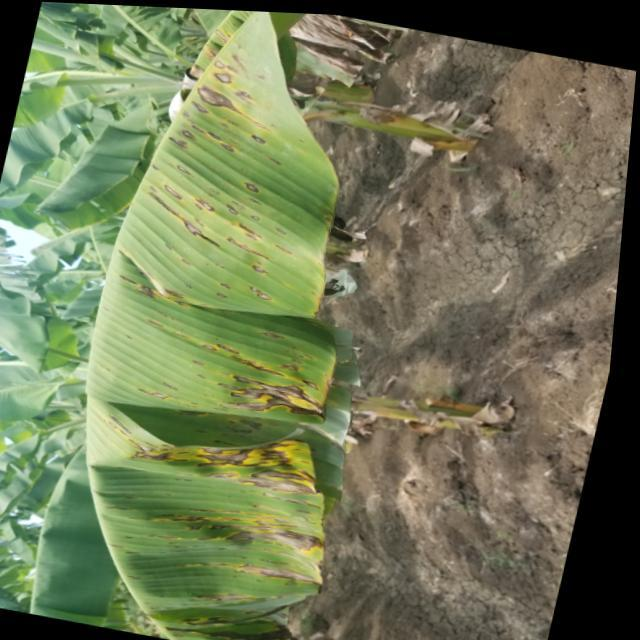Early_rust: (85, 33, 400, 634)
